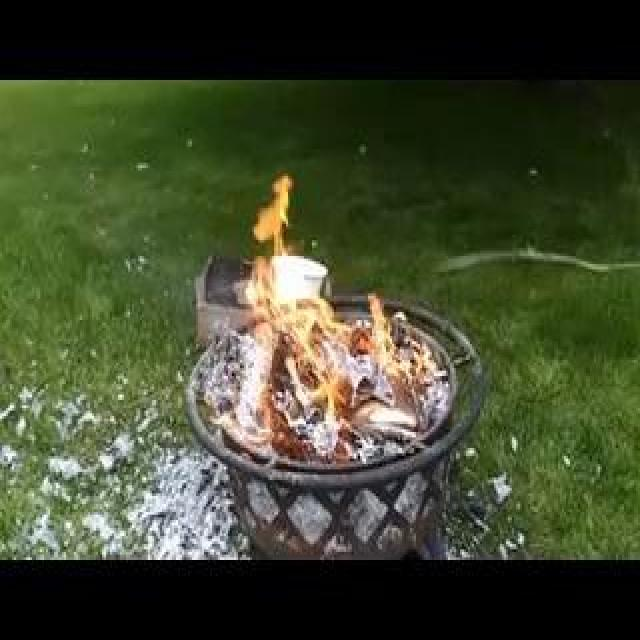Fire: (248, 310, 299, 314)
